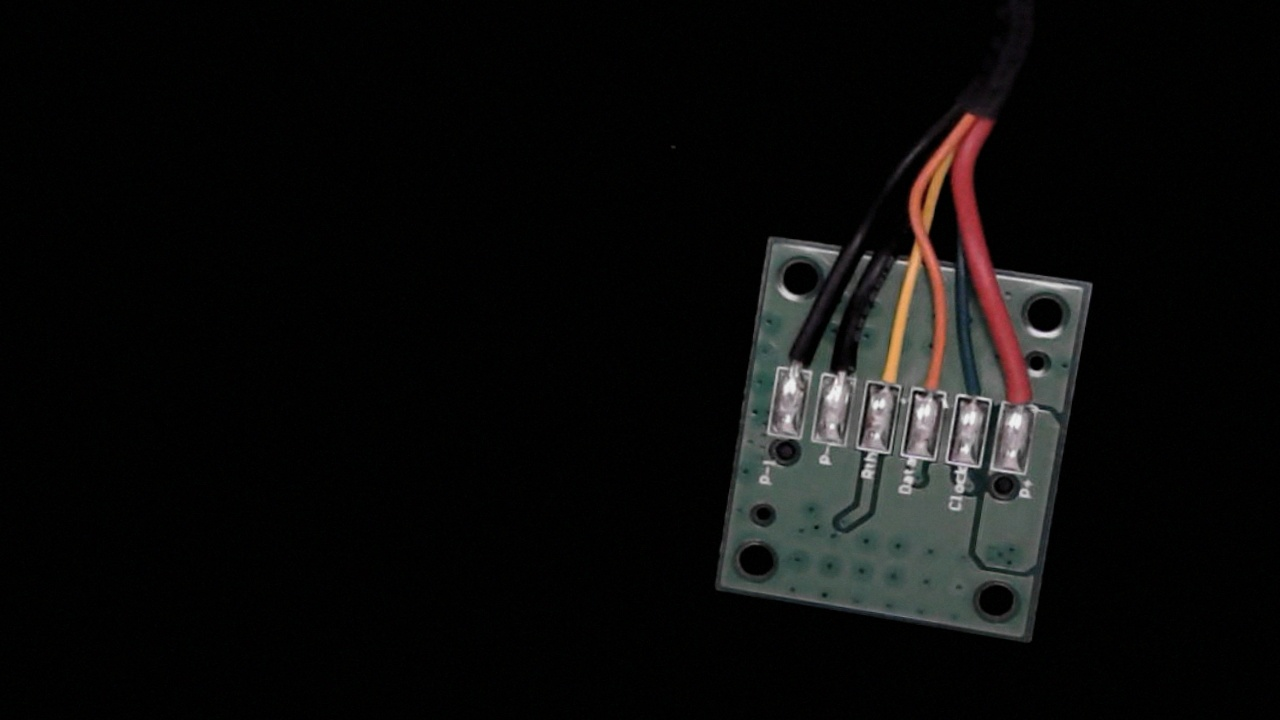Black: (819, 318, 871, 398)
Black1: (773, 317, 818, 389)
Green: (953, 340, 1005, 423)
Orange: (908, 329, 958, 414)
Red: (996, 343, 1049, 426)
Yellow: (864, 333, 912, 407)
